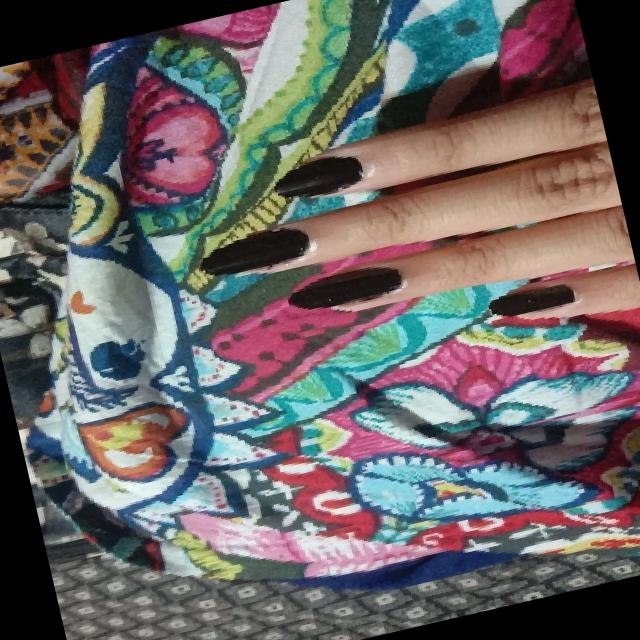Nail: (199, 226, 309, 274), (287, 267, 402, 308), (273, 155, 361, 196), (487, 283, 576, 315)
